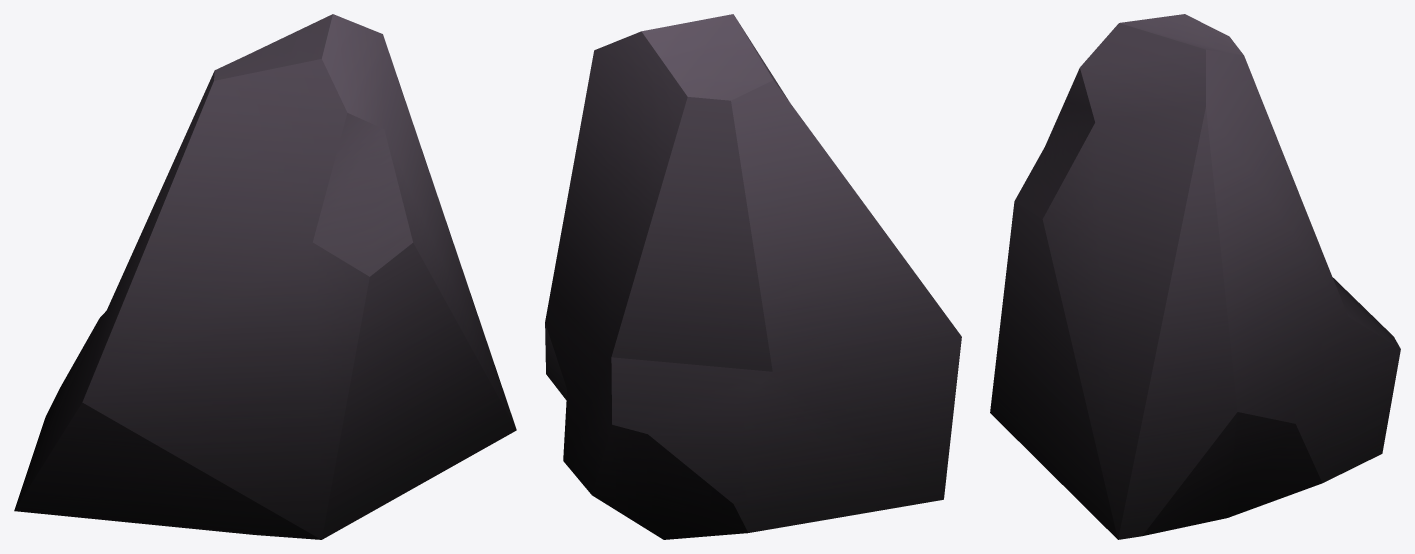
Rendered from rock4.fbx.
3 views of the same model, side by side, from view 1: azimuth 30°, elevation 25°; view 2: azimuth 150°, elevation 25°; view 3: azimuth 270°, elevation 25° (orthographic). The views are drawn at different scales.
Visible parts, largest first — view 1: rock4; view 2: rock4; view 3: rock4.
Boxes of the visible parts, x1,y1,x2,y2 form: rock4: [14, 14, 516, 539]; rock4: [545, 14, 961, 539]; rock4: [990, 14, 1400, 539].
Size of the model in its own units: 320 by 333 by 246.
